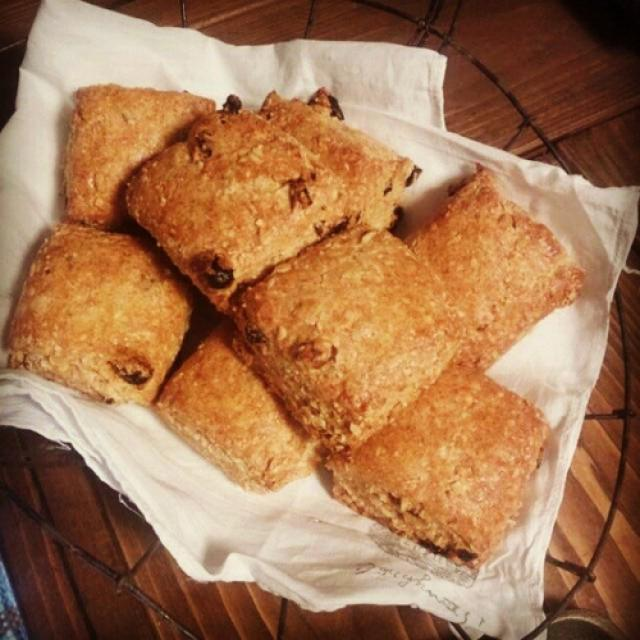面包点心: (16, 26, 596, 594)
